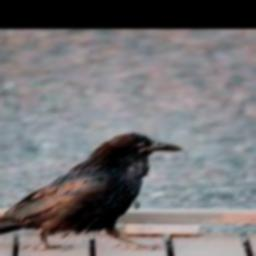Crow: (0, 132, 184, 251)
